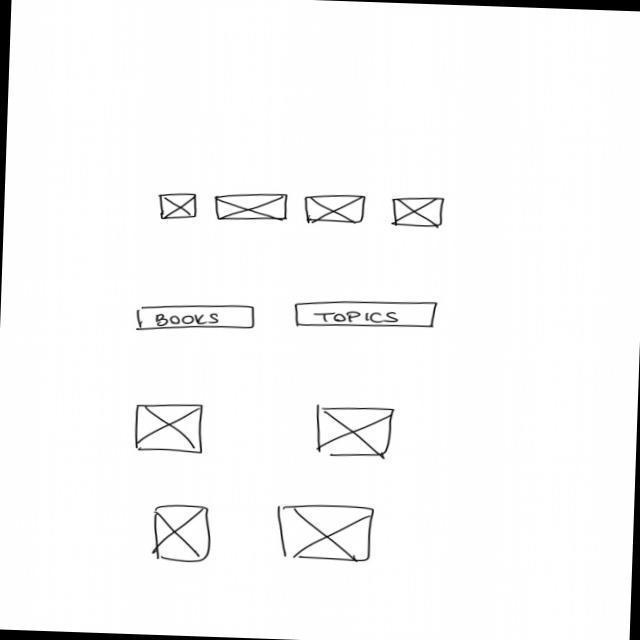button: (295, 297, 442, 333), (132, 301, 257, 338)
image: (276, 502, 376, 564), (313, 404, 395, 462), (130, 401, 207, 456), (152, 503, 213, 565), (214, 189, 292, 225), (304, 192, 369, 227), (392, 197, 447, 230), (159, 190, 200, 222)
